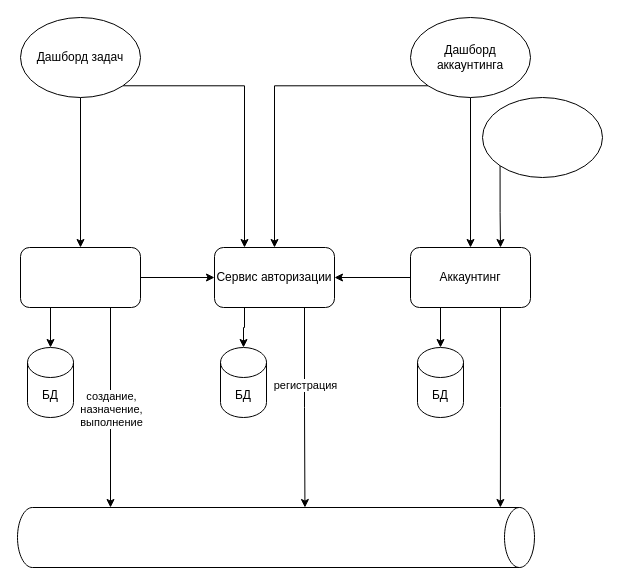
Image size: 620x585. Some labels were removed from this diagram. The shapes that lost their labels are listed below. From the top down, each one's centre as x and y in pixels, then its label:
[542,137]: Дашборд аналитики
[80,277]: Задачи
[275,537]: Брокер
